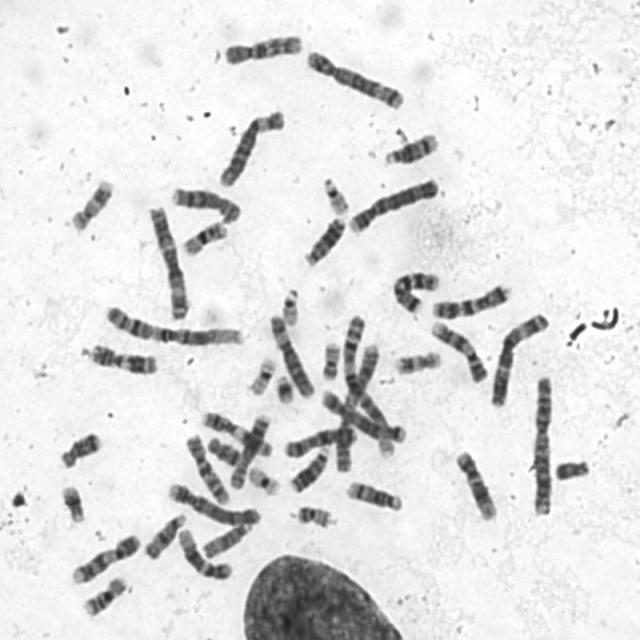A1: (337, 307, 398, 458), (100, 298, 249, 348)
A2: (329, 337, 381, 474), (526, 367, 556, 518)
A3: (485, 305, 553, 409), (143, 198, 192, 321)
B4: (343, 170, 442, 236), (162, 476, 262, 527)
B5: (302, 43, 407, 111), (317, 383, 408, 446)
C10: (179, 426, 232, 506), (219, 27, 305, 68)
C11: (197, 405, 275, 458), (84, 337, 161, 376)
C12: (450, 443, 500, 522), (173, 522, 234, 580)
C6: (214, 102, 288, 188), (265, 308, 317, 399)
C7: (426, 276, 514, 321), (388, 263, 442, 316)
C8: (224, 407, 272, 491), (166, 179, 244, 225)
C9: (66, 526, 143, 586), (426, 314, 490, 385)
D13: (298, 208, 349, 268), (284, 439, 331, 494)
D14: (378, 125, 442, 167), (341, 474, 405, 513)
D15: (139, 506, 189, 561), (198, 516, 255, 559)
E16: (78, 569, 130, 618), (178, 213, 230, 258)
E17: (65, 172, 115, 234), (389, 343, 443, 376)
E18: (54, 424, 105, 470), (202, 429, 244, 467)
F19: (242, 350, 278, 398), (244, 459, 282, 497)
F20: (290, 498, 337, 530), (316, 335, 343, 382)
G21: (56, 478, 88, 524), (270, 368, 297, 405)
G22: (318, 170, 351, 216), (276, 281, 302, 327)
X: (278, 420, 359, 460)
Y: (550, 452, 592, 482)
